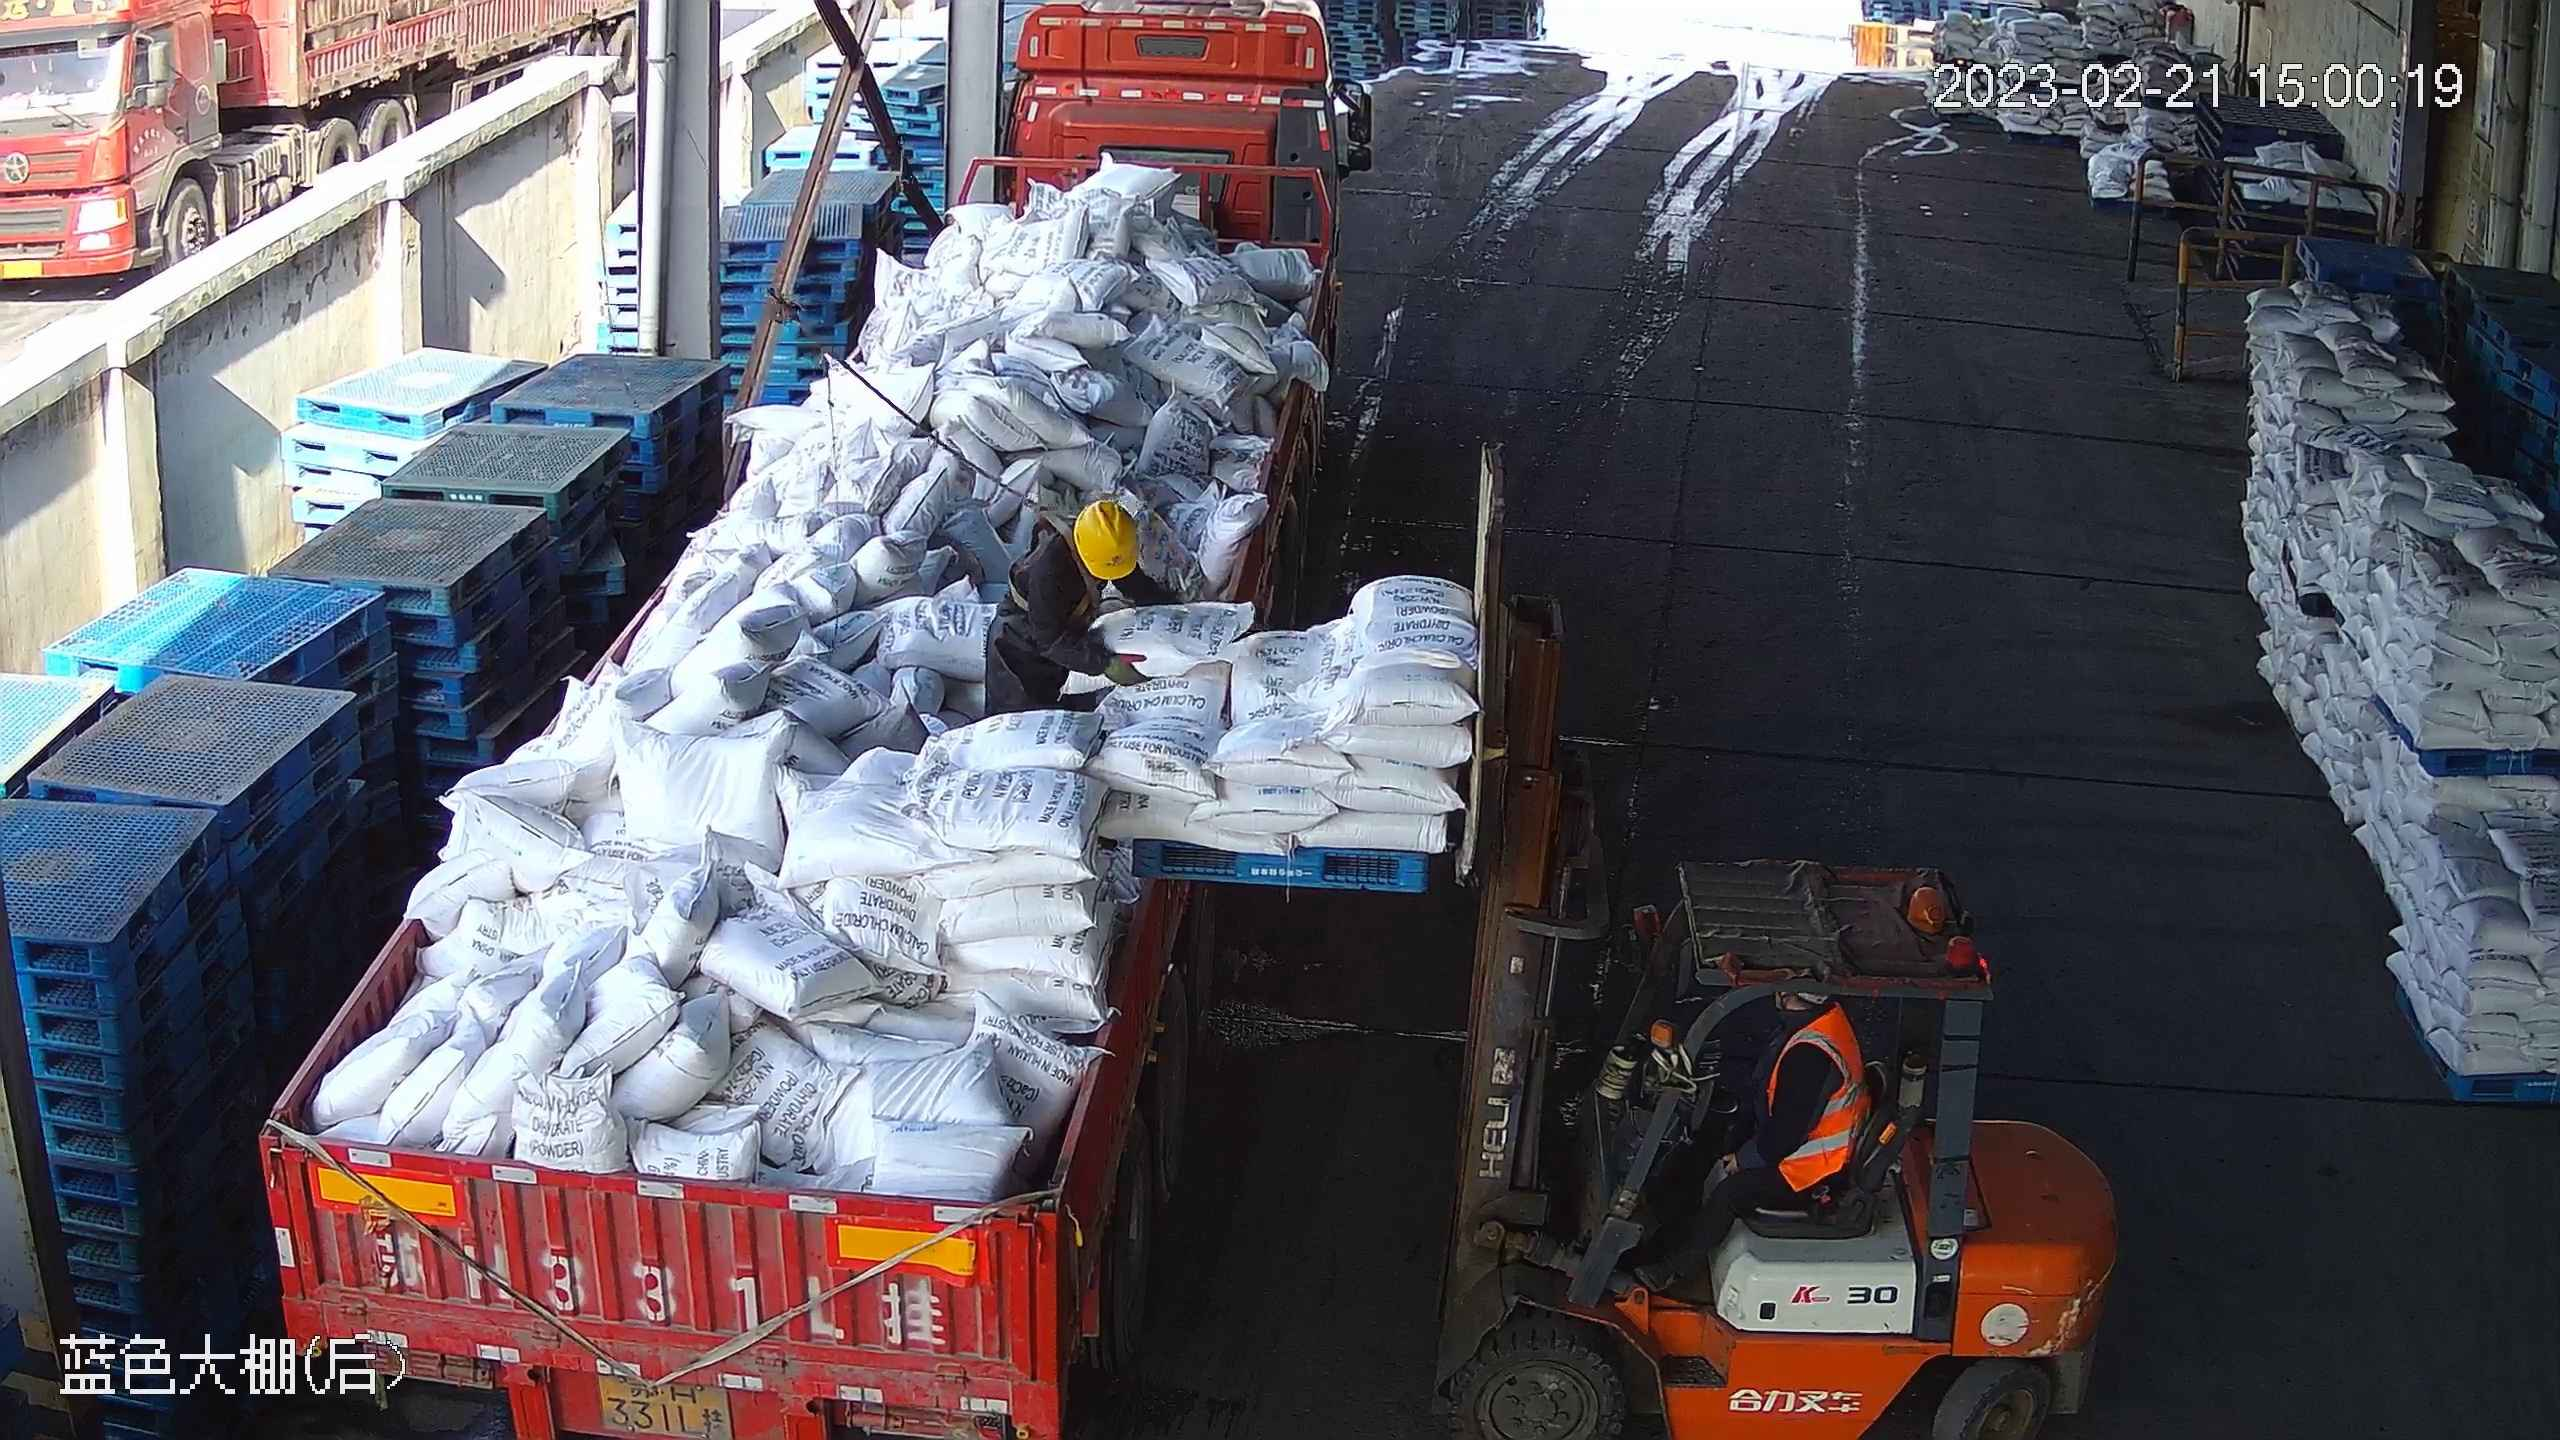belt: (1000, 501, 1106, 619), (1074, 501, 1140, 581)
head: (1741, 992, 1872, 1090), (1022, 499, 1142, 588)
people: (1625, 992, 1877, 1297), (983, 500, 1150, 716)
truck: (250, 1, 1354, 1436)
